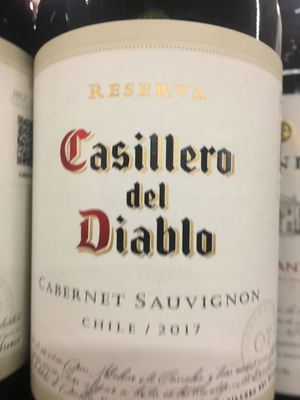casillero del diablo cabernet sauvignon: (28, 26, 283, 400)
